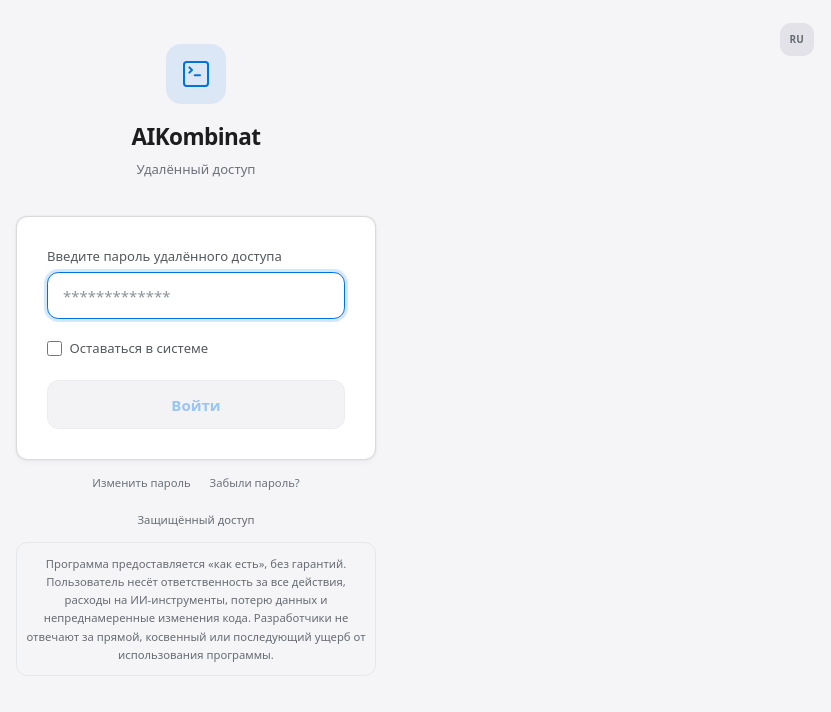
Test case: remote access localized UX › ru translates remote login, errors and recovery text
This screenshot has width=831, height=712.
Type "wrong" into the password field with placeholder "*************".
click(196, 296); type("wrong")  # box [47,272,345,319]
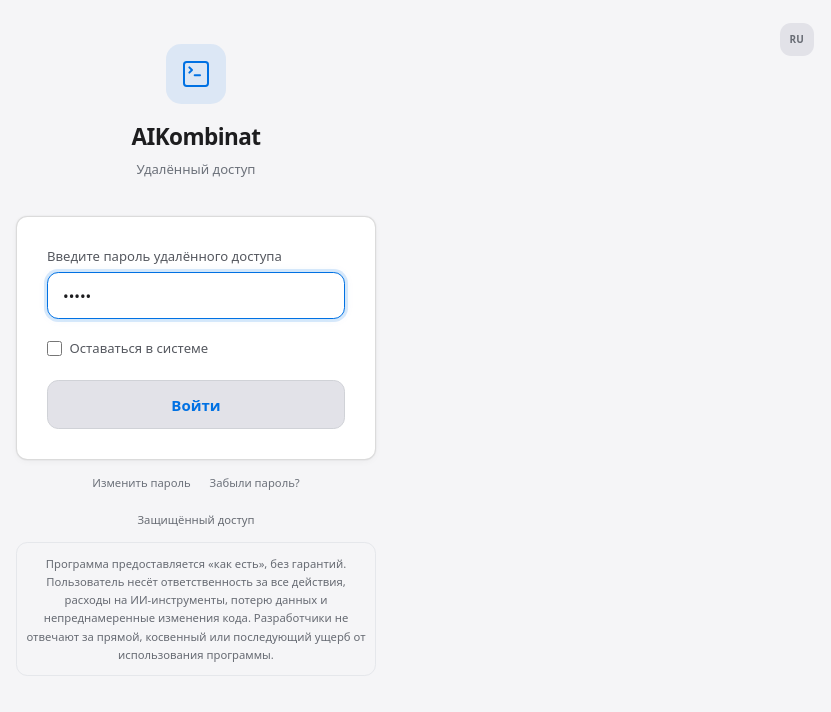
Submit the form, box [16,216,376,460]
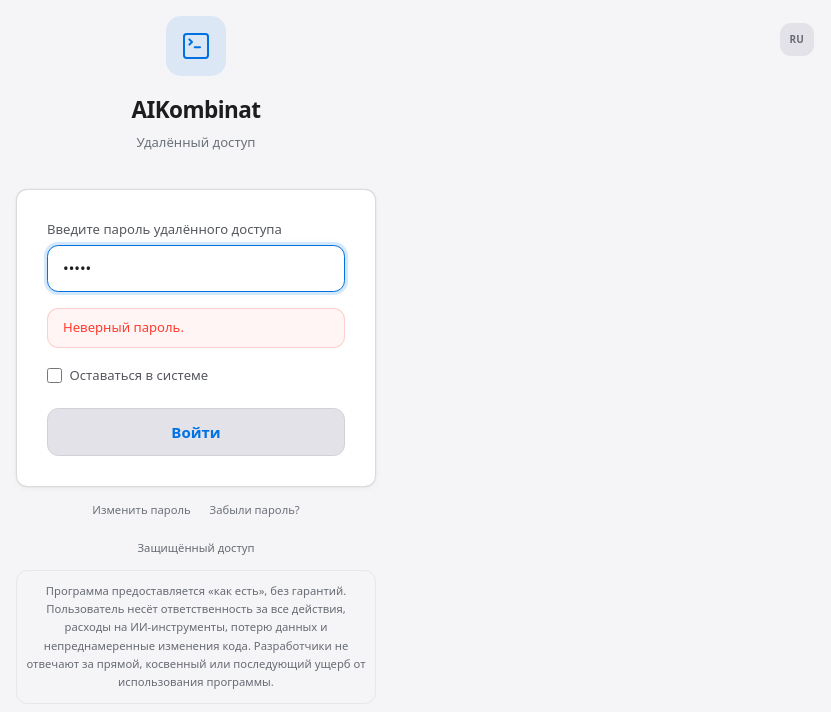
expect the text "Неверный пароль" is shown: met, box [63,318,184,336]
Click the button "Забыли пароль?".
click(255, 510)  # box [210,502,300,517]
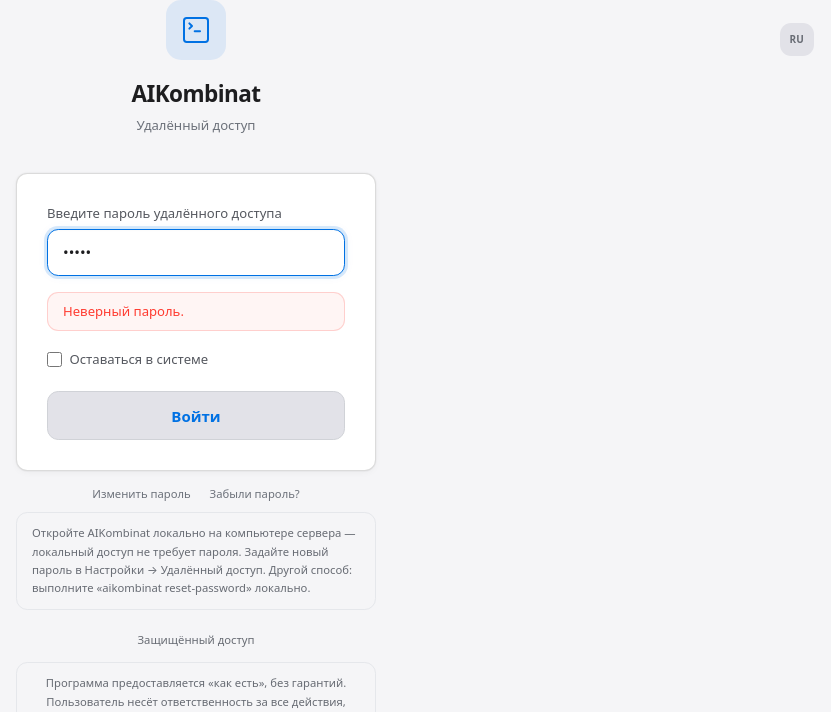
expect the text "aikombinat reset-password" is shown: met, box [32,525,356,595]
